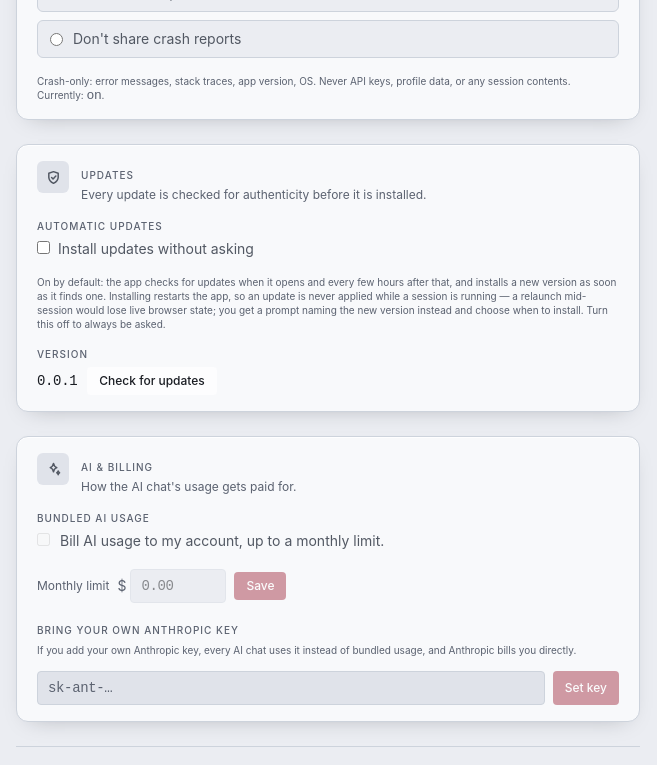
Scenario: Settings offers to install the update it just found (N-8) › renders an Install button naming the version
The width and height of the screenshot is (657, 765).
(page scrolled)
Click the button "Check for updates".
click(152, 381)  # box [87, 367, 217, 395]
(page scrolled)
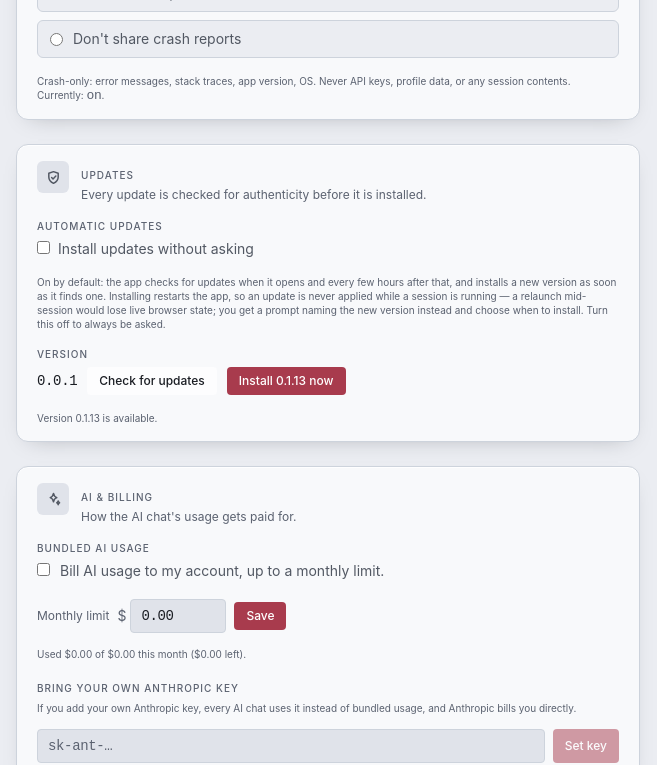
Check: the button "Install 0.1.13 now" is shown, box [227, 367, 346, 395]
